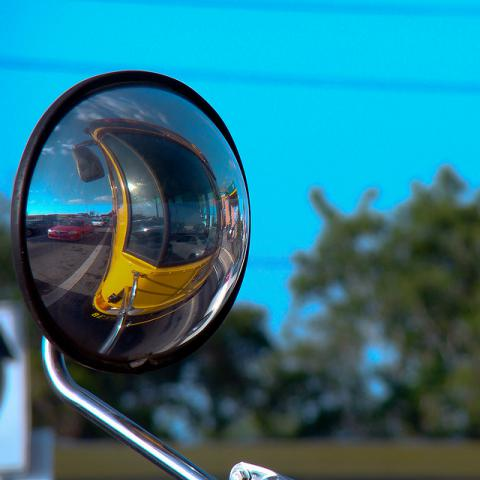bus: (72, 119, 224, 324)
car: (48, 214, 94, 242), (128, 219, 165, 244), (25, 221, 46, 238), (92, 218, 104, 227)
